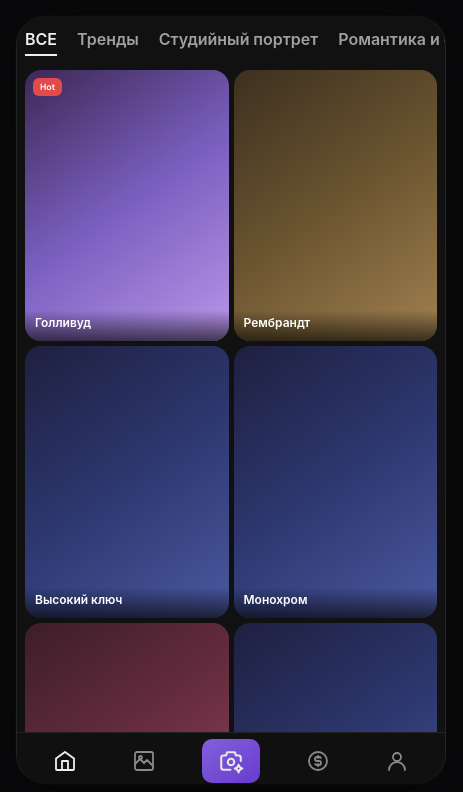
Scenario: TG user reactivity › reads TG user from initDataUnsafe.user via live window.Telegram.WebApp
The width and height of the screenshot is (463, 792).
Click the button named "Профиль": (397, 760) [375, 738, 419, 782]
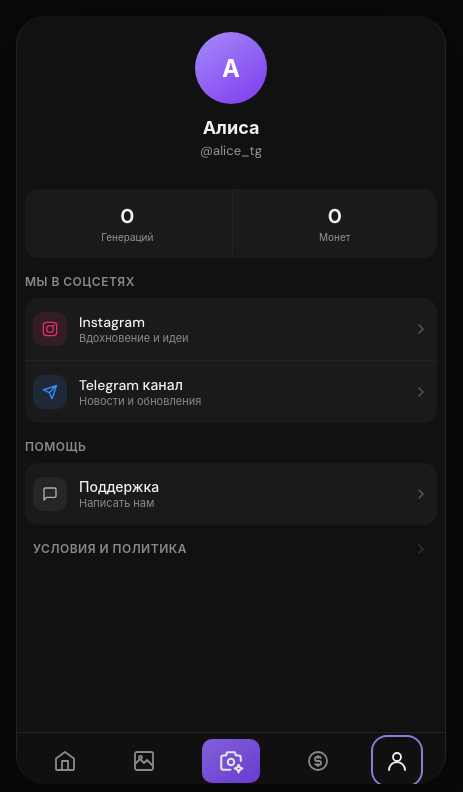
Now the text "@alice_tg" is shown, box [200, 142, 262, 159]
